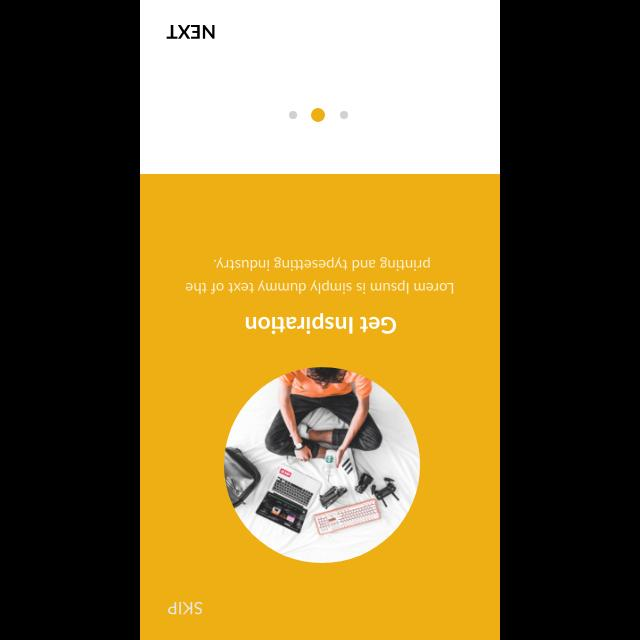image: (224, 366, 420, 562)
pageindicator: (288, 107, 348, 123)
text: (185, 256, 453, 294), (244, 312, 396, 334), (164, 24, 216, 40), (166, 600, 202, 614)
